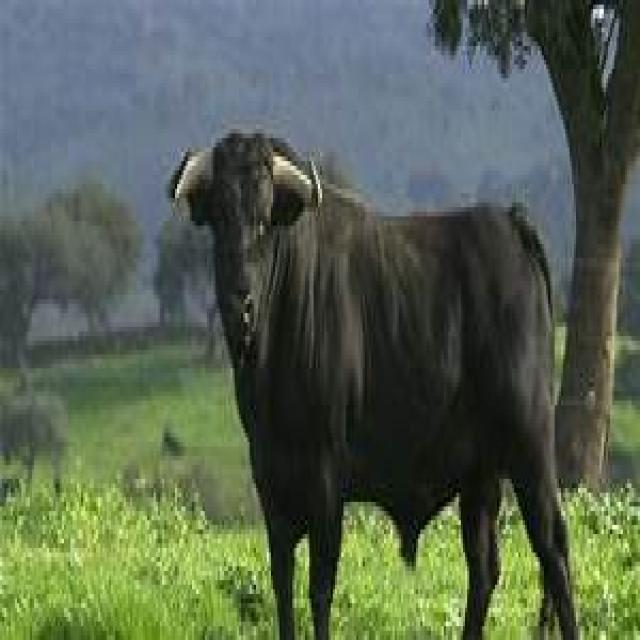cow: (166, 129, 582, 640)
